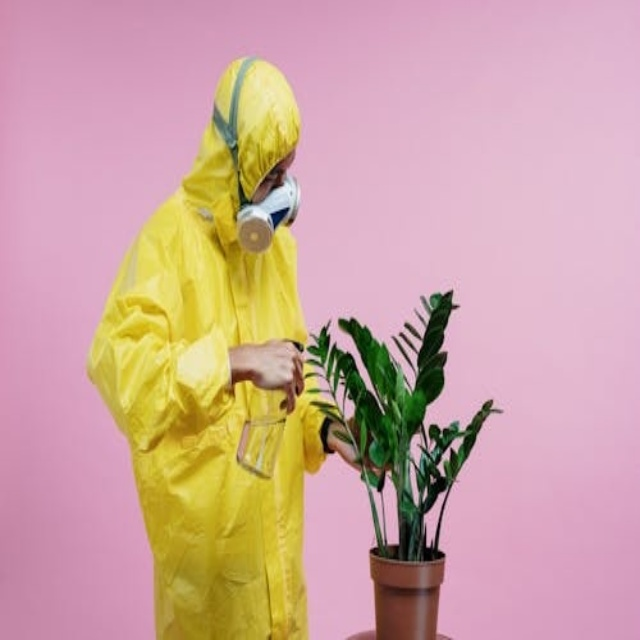Mascara: (235, 174, 300, 255)
Sin_gafas: (255, 157, 296, 204)
Sin_guantes: (234, 339, 303, 407)
